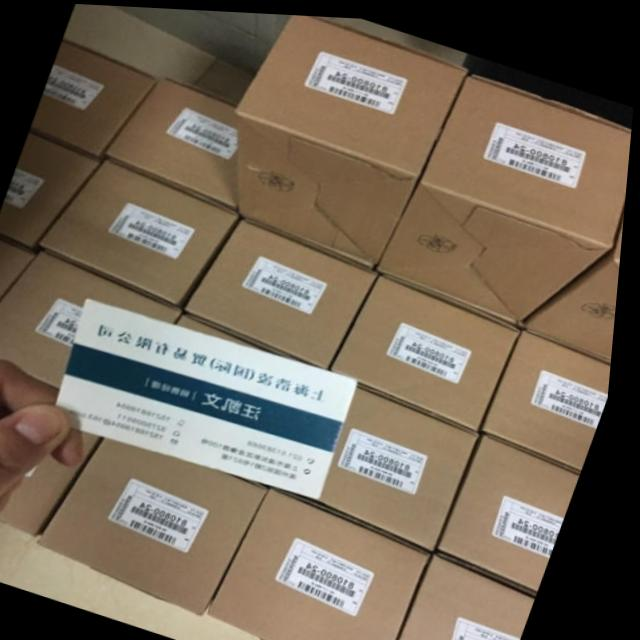box: (380, 69, 633, 315), (237, 12, 469, 262), (46, 436, 277, 612), (217, 485, 439, 640), (337, 270, 526, 425), (43, 157, 242, 303), (189, 216, 383, 365), (323, 380, 486, 545), (0, 249, 187, 387), (446, 428, 588, 585), (107, 74, 243, 207), (489, 324, 617, 464), (527, 194, 628, 352), (33, 36, 159, 157), (408, 547, 547, 640), (65, 3, 217, 83), (0, 132, 101, 247), (0, 234, 40, 306)
